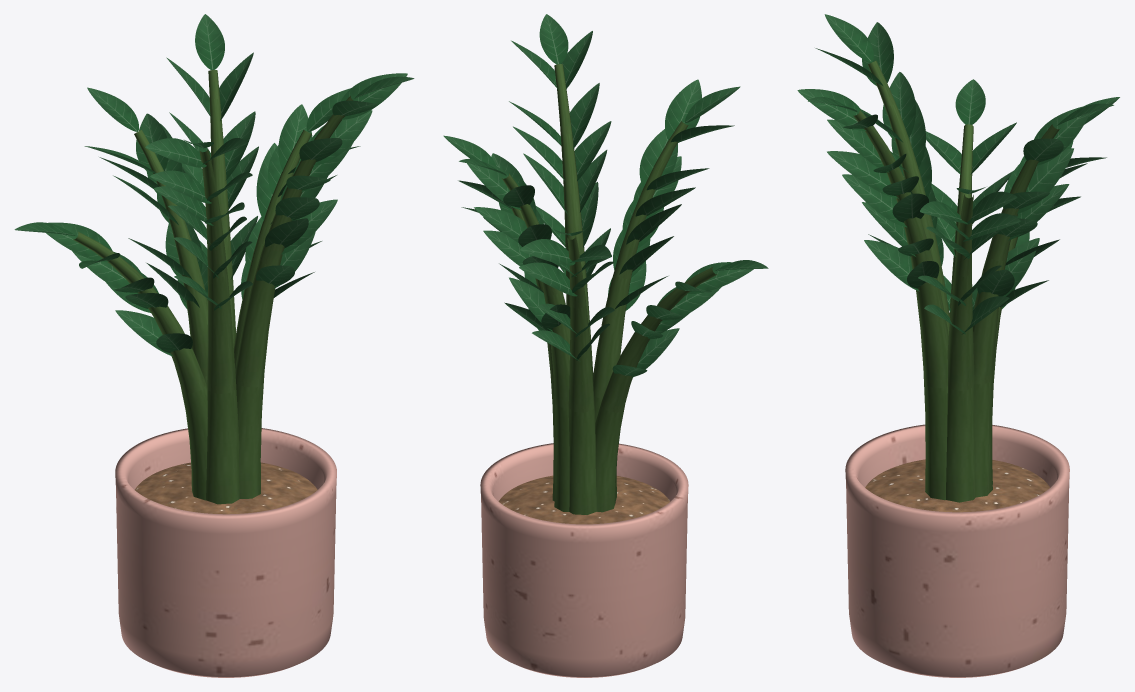
The model's file is zamioculcas.glb.
3 views of the same model, side by side, from view 1: azimuth 30°, elevation 25°; view 2: azimuth 150°, elevation 25°; view 3: azimuth 270°, elevation 25° (orthographic). The views are drawn at different scales.
Visible parts, largest first — view 1: piece-0, piece-68, piece-1, piece-21, piece-10, piece-40, piece-53, piece-65, piece-63, piece-51, piece-32, piece-18 (+13 smaller); view 2: piece-0, piece-68, piece-1, piece-52, piece-67, piece-50, piece-64, piece-27, piece-62, piece-18, piece-39, piece-31 (+18 smaller); view 3: piece-0, piece-68, piece-1, piece-62, piece-17, piece-66, piece-51, piece-53, piece-56, piece-54, piece-41, piece-60 (+17 smaller).
Part boxes in pixels (x1,y1,x2,y2): piece-0: [115, 428, 336, 677]; piece-68: [73, 70, 352, 504]; piece-1: [135, 462, 317, 514]; piece-21: [195, 14, 224, 70]; piece-10: [278, 104, 312, 170]; piece-40: [45, 222, 112, 261]; piece-53: [145, 138, 206, 167]; piece-65: [341, 73, 407, 119]; piece-63: [310, 110, 372, 165]; piece-51: [150, 170, 211, 203]; piece-32: [87, 87, 138, 131]; piece-18: [223, 111, 255, 180]; piece-0: [480, 443, 688, 677]; piece-68: [501, 64, 717, 514]; piece-1: [498, 475, 670, 524]; piece-52: [665, 79, 701, 142]; piece-67: [539, 14, 568, 64]; piece-50: [639, 129, 677, 190]; piece-64: [569, 83, 599, 148]; piece-27: [519, 262, 577, 296]; piece-62: [574, 121, 611, 180]; piece-18: [474, 207, 526, 242]; piece-39: [685, 262, 753, 293]; piece-31: [520, 239, 575, 265]; piece-0: [845, 424, 1069, 677]; piece-68: [853, 60, 1060, 502]; piece-1: [865, 459, 1049, 512]; piece-62: [827, 151, 898, 198]; piece-17: [1010, 148, 1073, 213]; piece-66: [797, 89, 865, 130]; piece-51: [882, 72, 915, 140]; piece-53: [862, 22, 893, 85]; piece-56: [864, 240, 919, 291]; piece-54: [824, 14, 873, 62]; piece-41: [955, 79, 985, 124]; piece-60: [842, 174, 906, 227].
Size of the model in its own units: 0.2894 by 0.4683 by 0.2319.
Materials: 4 (4 with a texture image).
